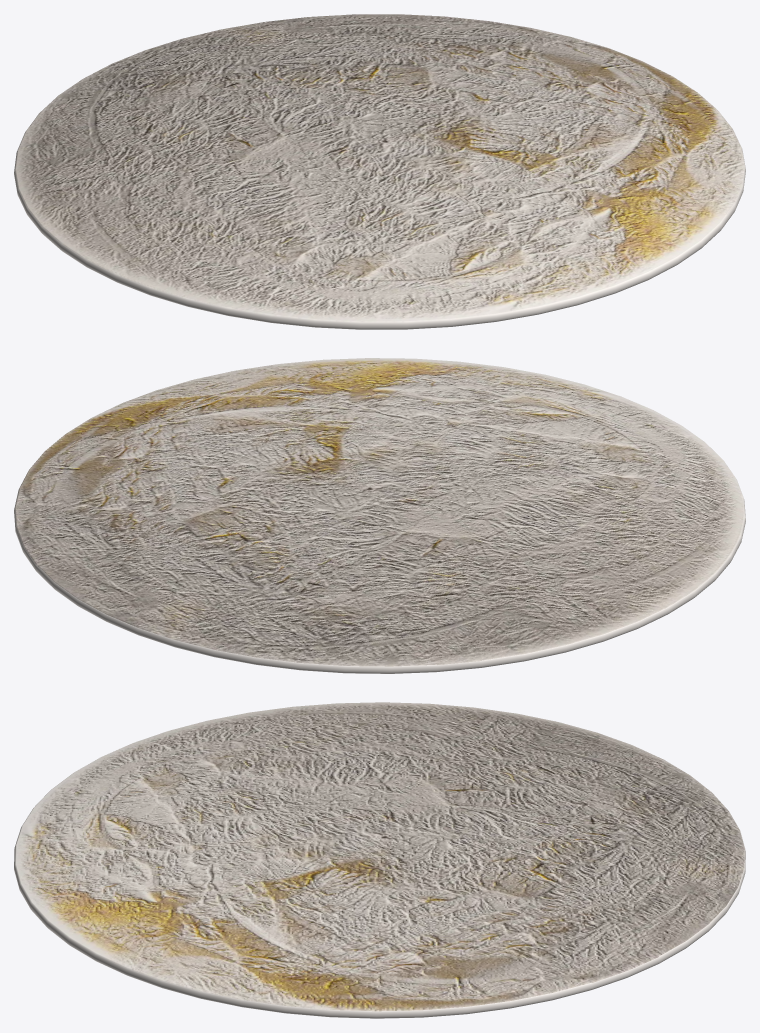
Rendered from disc-texture.glb.
3 views of the same model, one above another, from view 1: azimuth 30°, elevation 25°; view 2: azimuth 150°, elevation 25°; view 3: azimuth 270°, elevation 25° (orthographic).
Visible parts, largest first — view 1: Lathe; view 2: Lathe; view 3: Lathe.
Boxes of the visible parts, x1=… form: Lathe: x1=14, y1=14, x2=745, y2=329; Lathe: x1=14, y1=358, x2=745, y2=673; Lathe: x1=14, y1=702, x2=745, y2=1018.
Bounding box in the file's own units: 5.91 × 0.5233 × 5.9.
1 material, 1 textured.
